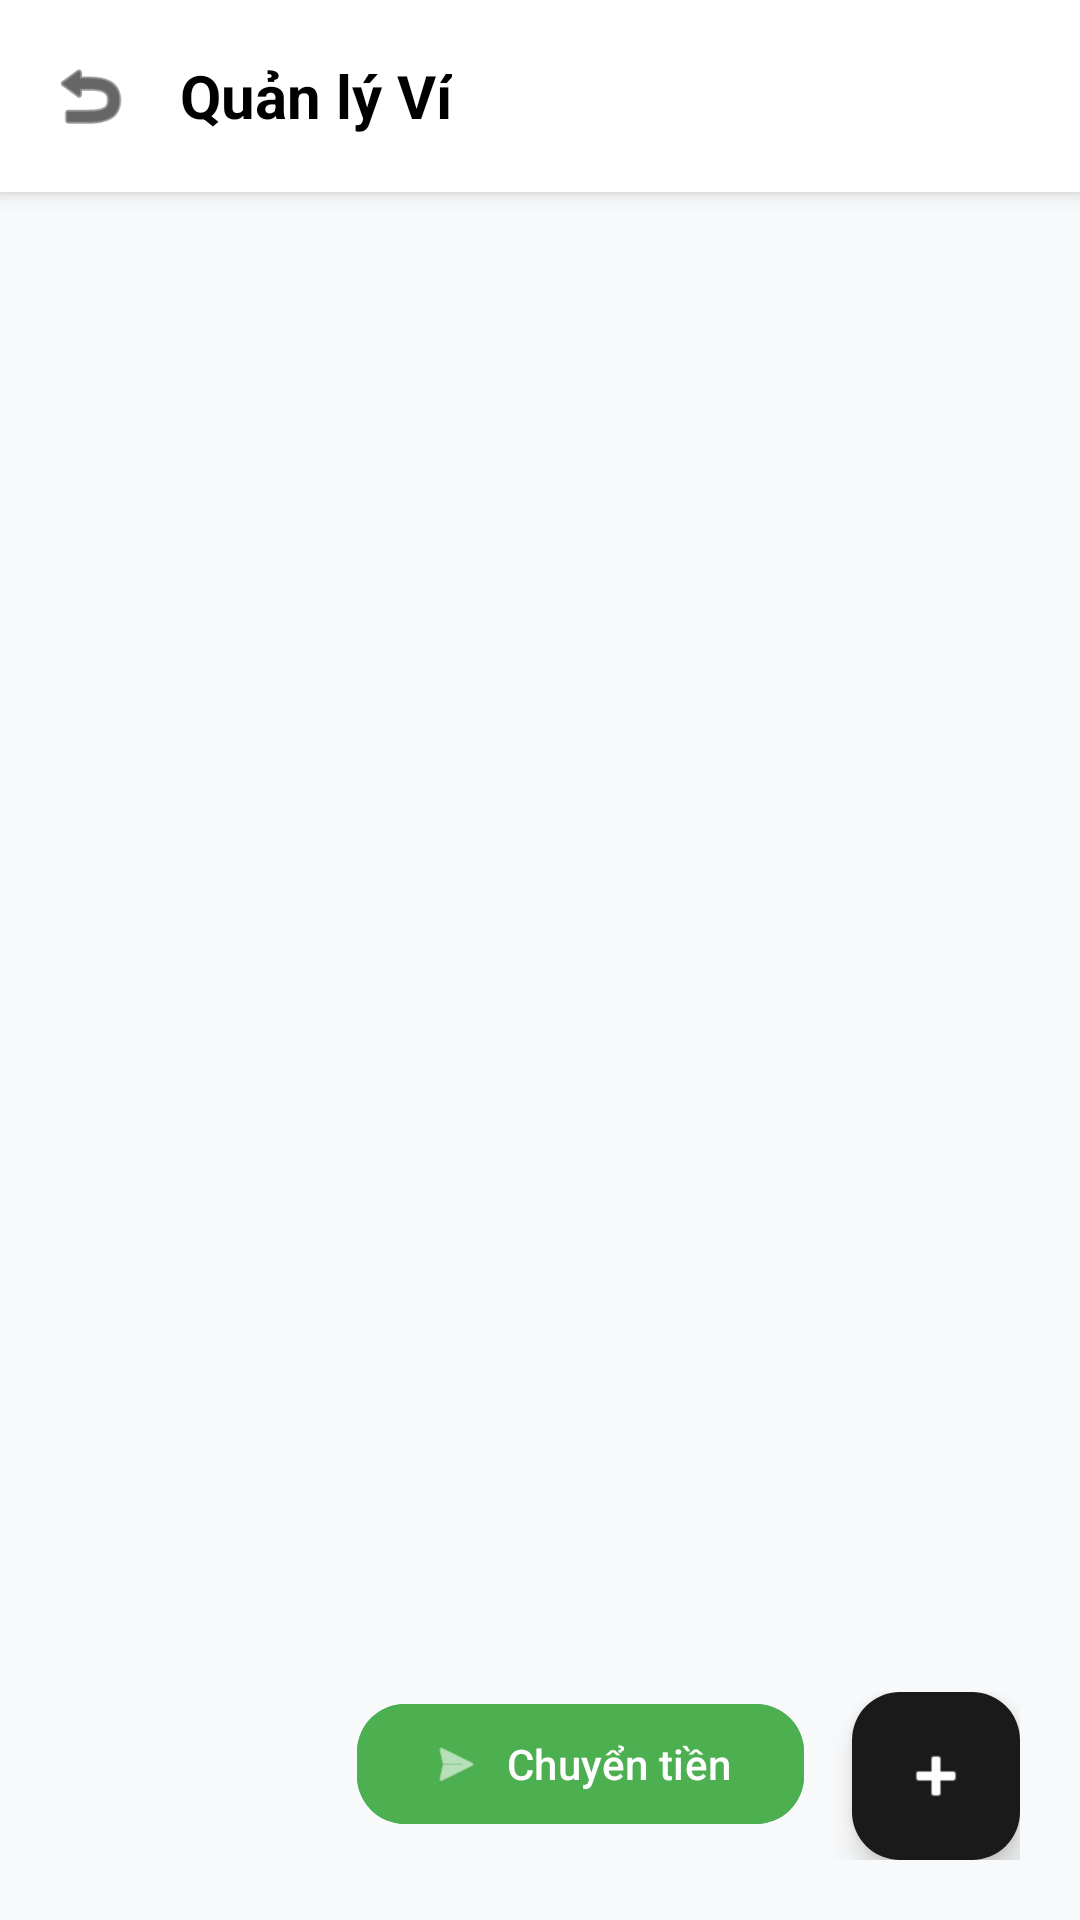

Point at icon controls on the screen. Image size 1080 x 1920, points as [x,y].
add: [936,1776]
revert: [91,96]
